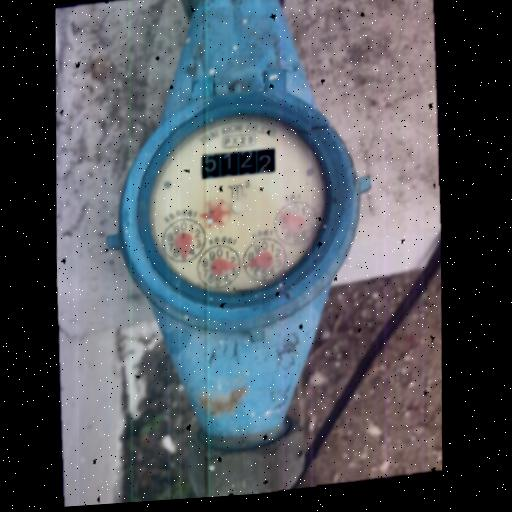1: (220, 151, 239, 177)
2: (256, 148, 277, 173), (238, 150, 256, 175)
5: (201, 153, 221, 179)
border_water_meter_number: (200, 146, 277, 180)
